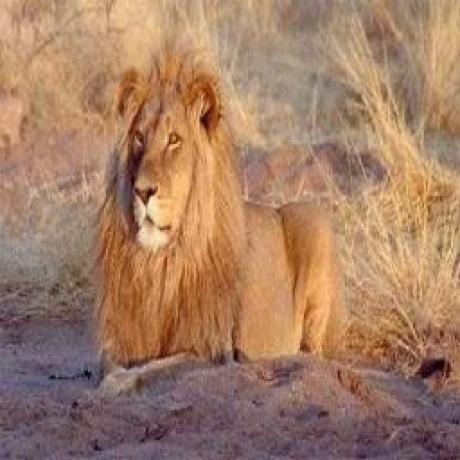Lion: (95, 48, 334, 356)
